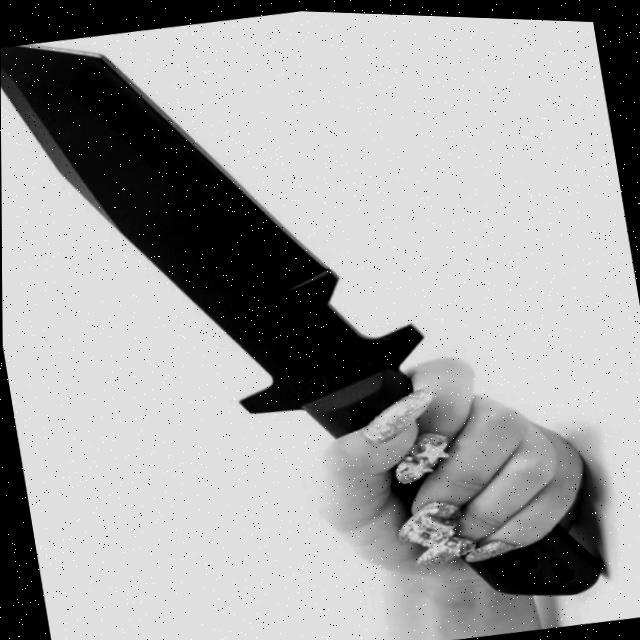knife: (0, 0, 611, 640)
